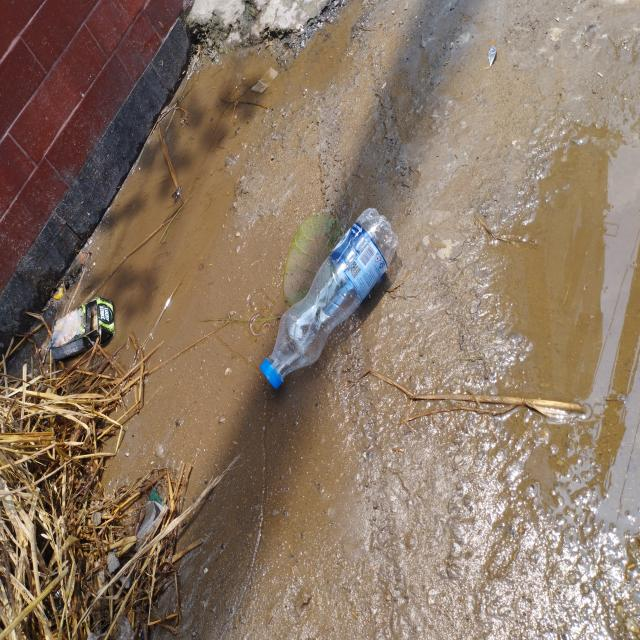plastic: (261, 208, 396, 387)
